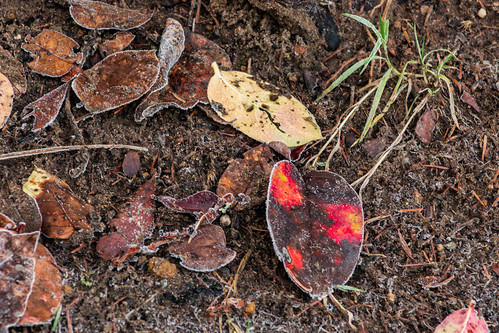vegetation: (1, 1, 482, 323)
